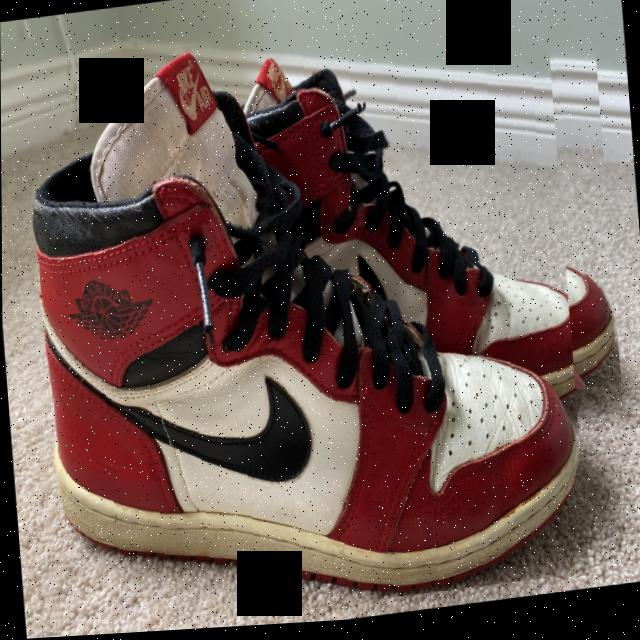shoe: (7, 1, 588, 640), (208, 9, 621, 444)
